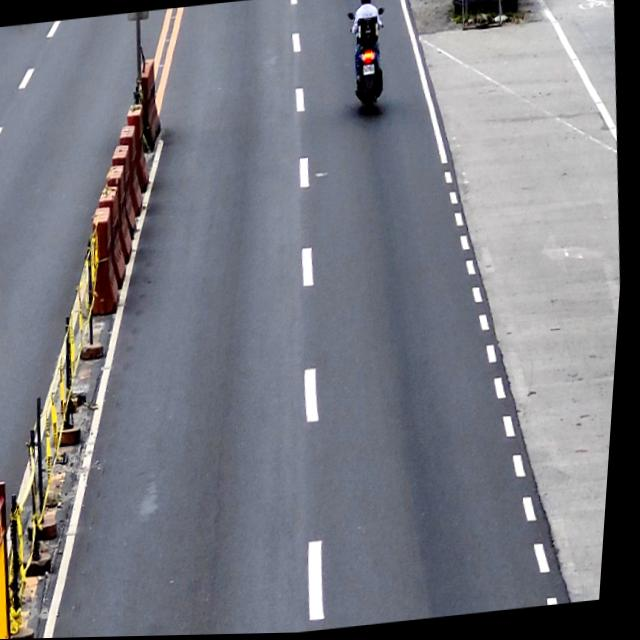License-Plate: (363, 66, 375, 77)
Motorcycle: (344, 5, 392, 110)
